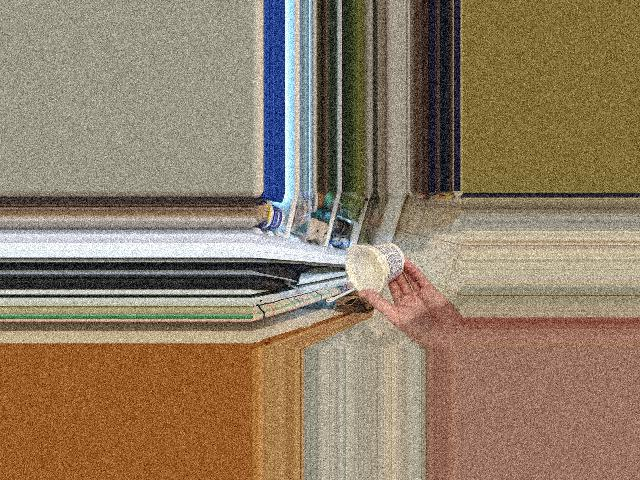cotage: (345, 247, 406, 293)
